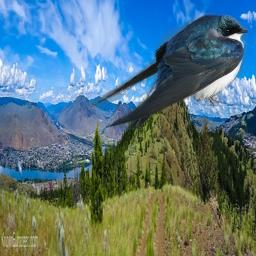Swallow: (87, 13, 248, 130)
